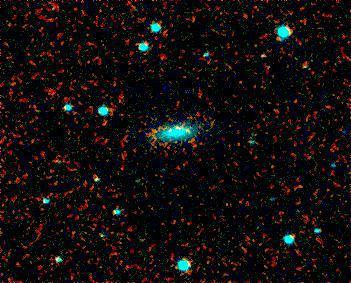star: (120, 165, 150, 195)
